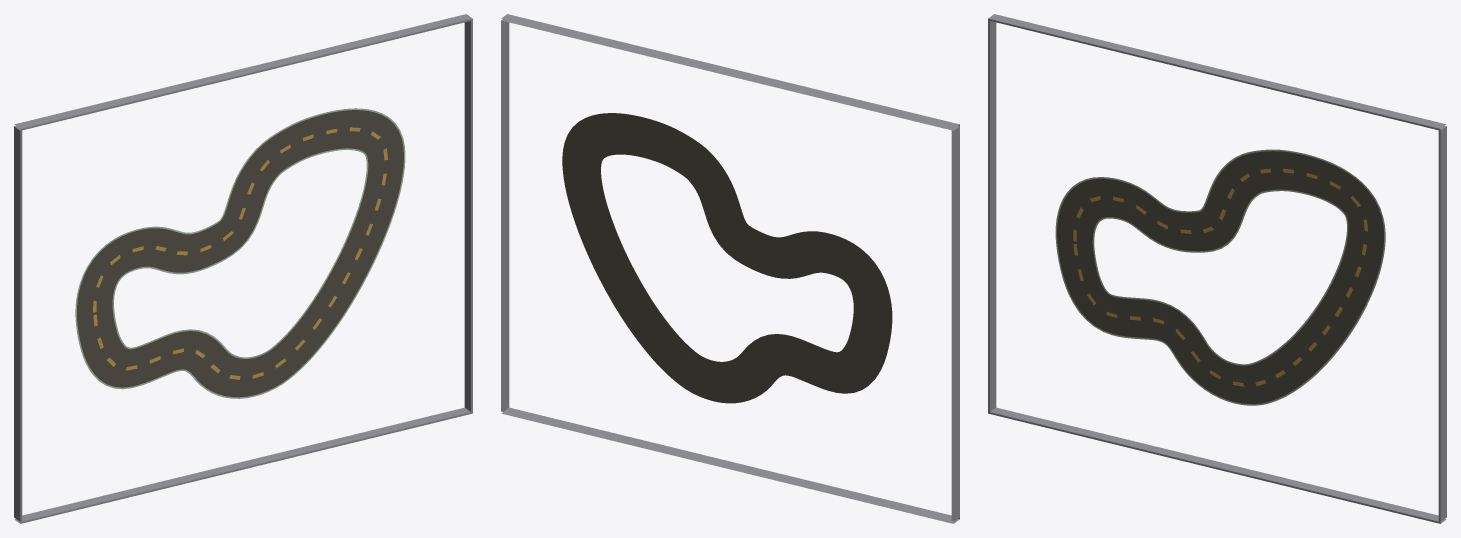
The model's file is track.obj.
The picture shows the model from 3 angles, left to right: view 1: azimuth 30°, elevation 25°; view 2: azimuth 150°, elevation 25°; view 3: azimuth 330°, elevation 25°; orthographic projection.
Size of the model in its own units: 12.49 by 10.42 by 0.3.
Materials: 4 (4 with a texture image).
